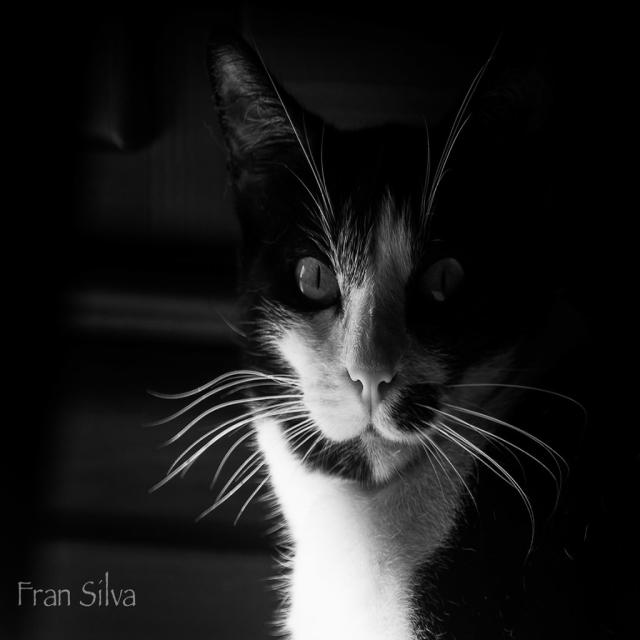Cat: (142, 12, 580, 638)
